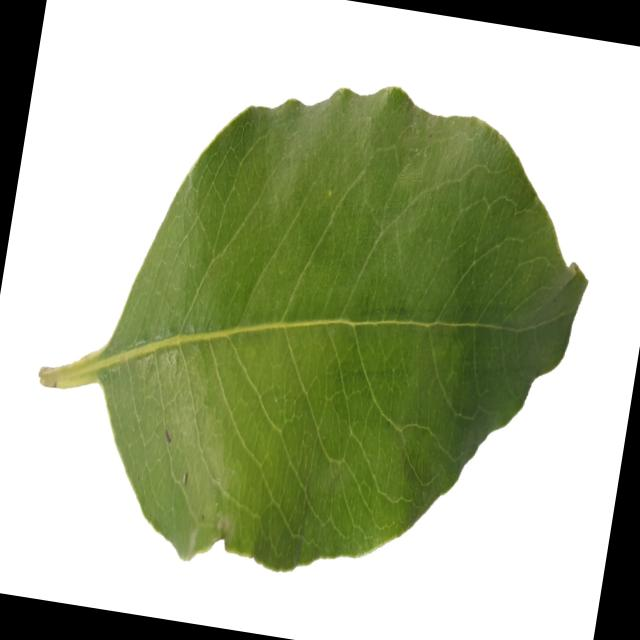Medicinal-Sandalwood: (14, 39, 614, 612)
